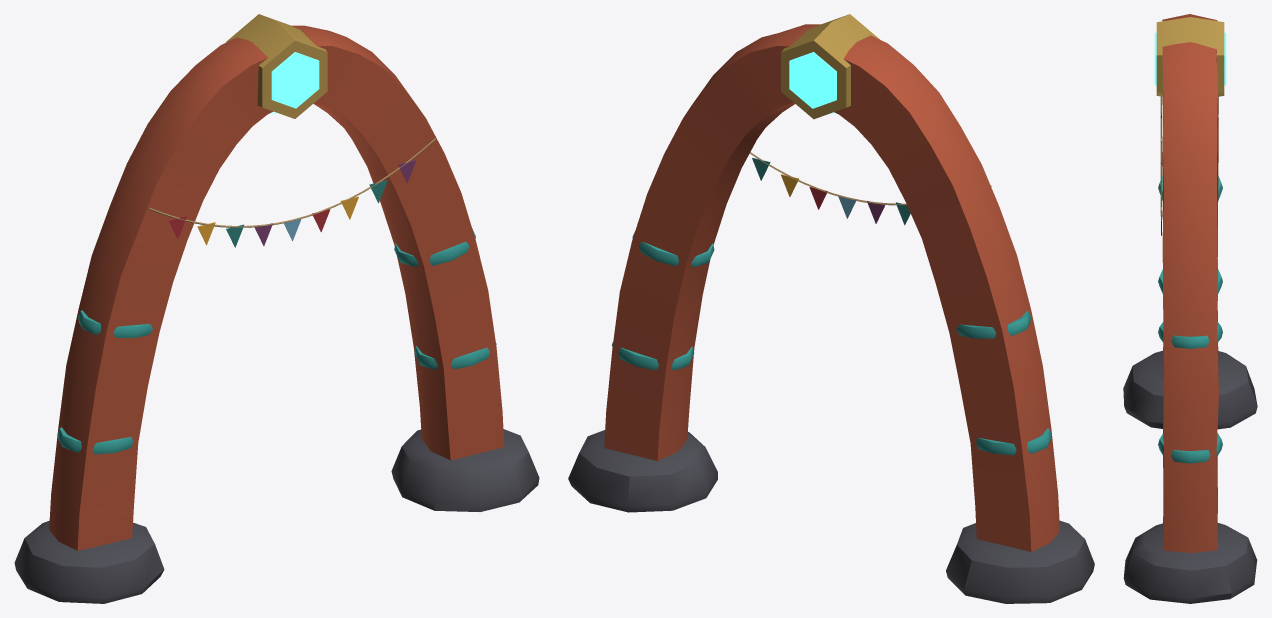
Rendered from deco_archway_gate.fbx.
3 renders of one model, left to right at view 1: azimuth 30°, elevation 25°; view 2: azimuth 150°, elevation 25°; view 3: azimuth 270°, elevation 25°, orthographic. The views are drawn at different scales.
Visible parts, largest first — view 1: Archway_Gate_PillarL, Archway_Gate_PillarR, Archway_Gate_KeystoneFrame, Archway_Gate_Bunting, Archway_Gate_Keystone; view 2: Archway_Gate_PillarL, Archway_Gate_PillarR, Archway_Gate_KeystoneFrame, Archway_Gate_Keystone, Archway_Gate_Bunting; view 3: Archway_Gate_PillarR, Archway_Gate_PillarL, Archway_Gate_KeystoneFrame, Archway_Gate_Bunting, Archway_Gate_Keystone.
Boxes of the visible parts, left/top/right/bottom form: Archway_Gate_PillarL: left=14, top=37, right=273, bottom=603; Archway_Gate_PillarR: left=291, top=25, right=539, bottom=511; Archway_Gate_KeystoneFrame: left=226, top=14, right=327, bottom=118; Archway_Gate_Bunting: left=148, top=138, right=435, bottom=247; Archway_Gate_Keystone: left=269, top=52, right=319, bottom=114; Archway_Gate_PillarL: left=834, top=35, right=1094, bottom=603; Archway_Gate_PillarR: left=568, top=24, right=820, bottom=512; Archway_Gate_KeystoneFrame: left=781, top=14, right=879, bottom=119; Archway_Gate_Keystone: left=789, top=52, right=836, bottom=115; Archway_Gate_Bunting: left=749, top=152, right=991, bottom=225; Archway_Gate_PillarR: left=1123, top=42, right=1257, bottom=603; Archway_Gate_PillarL: left=1123, top=14, right=1257, bottom=429; Archway_Gate_KeystoneFrame: left=1156, top=17, right=1224, bottom=96; Archway_Gate_Bunting: left=1160, top=96, right=1162, bottom=235; Archway_Gate_Keystone: left=1154, top=32, right=1226, bottom=85.
Bounding box in the file's own units: 563 × 542 × 139.
